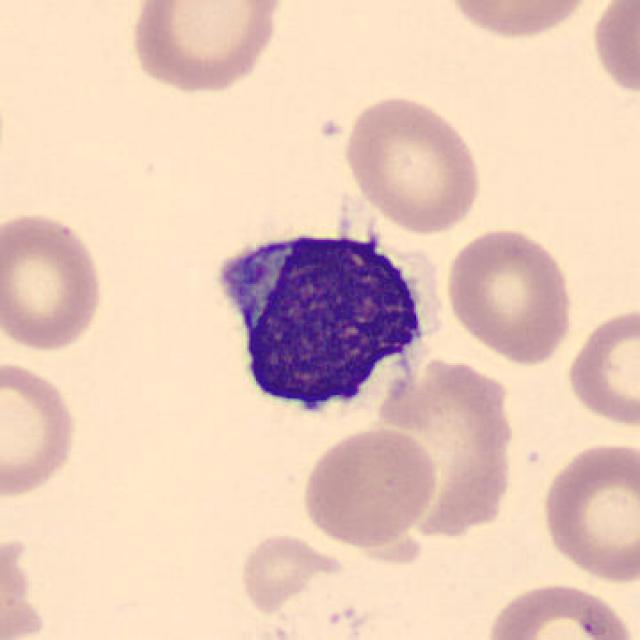Lymphocyte: (201, 204, 448, 433)
RBC: (373, 360, 513, 542), (340, 90, 486, 234), (441, 222, 576, 367), (299, 423, 439, 550), (0, 207, 108, 354), (125, 0, 286, 97), (537, 436, 640, 587), (0, 354, 82, 502), (562, 301, 640, 432), (482, 578, 636, 640), (235, 529, 341, 615), (441, 0, 599, 42), (586, 0, 638, 100)
